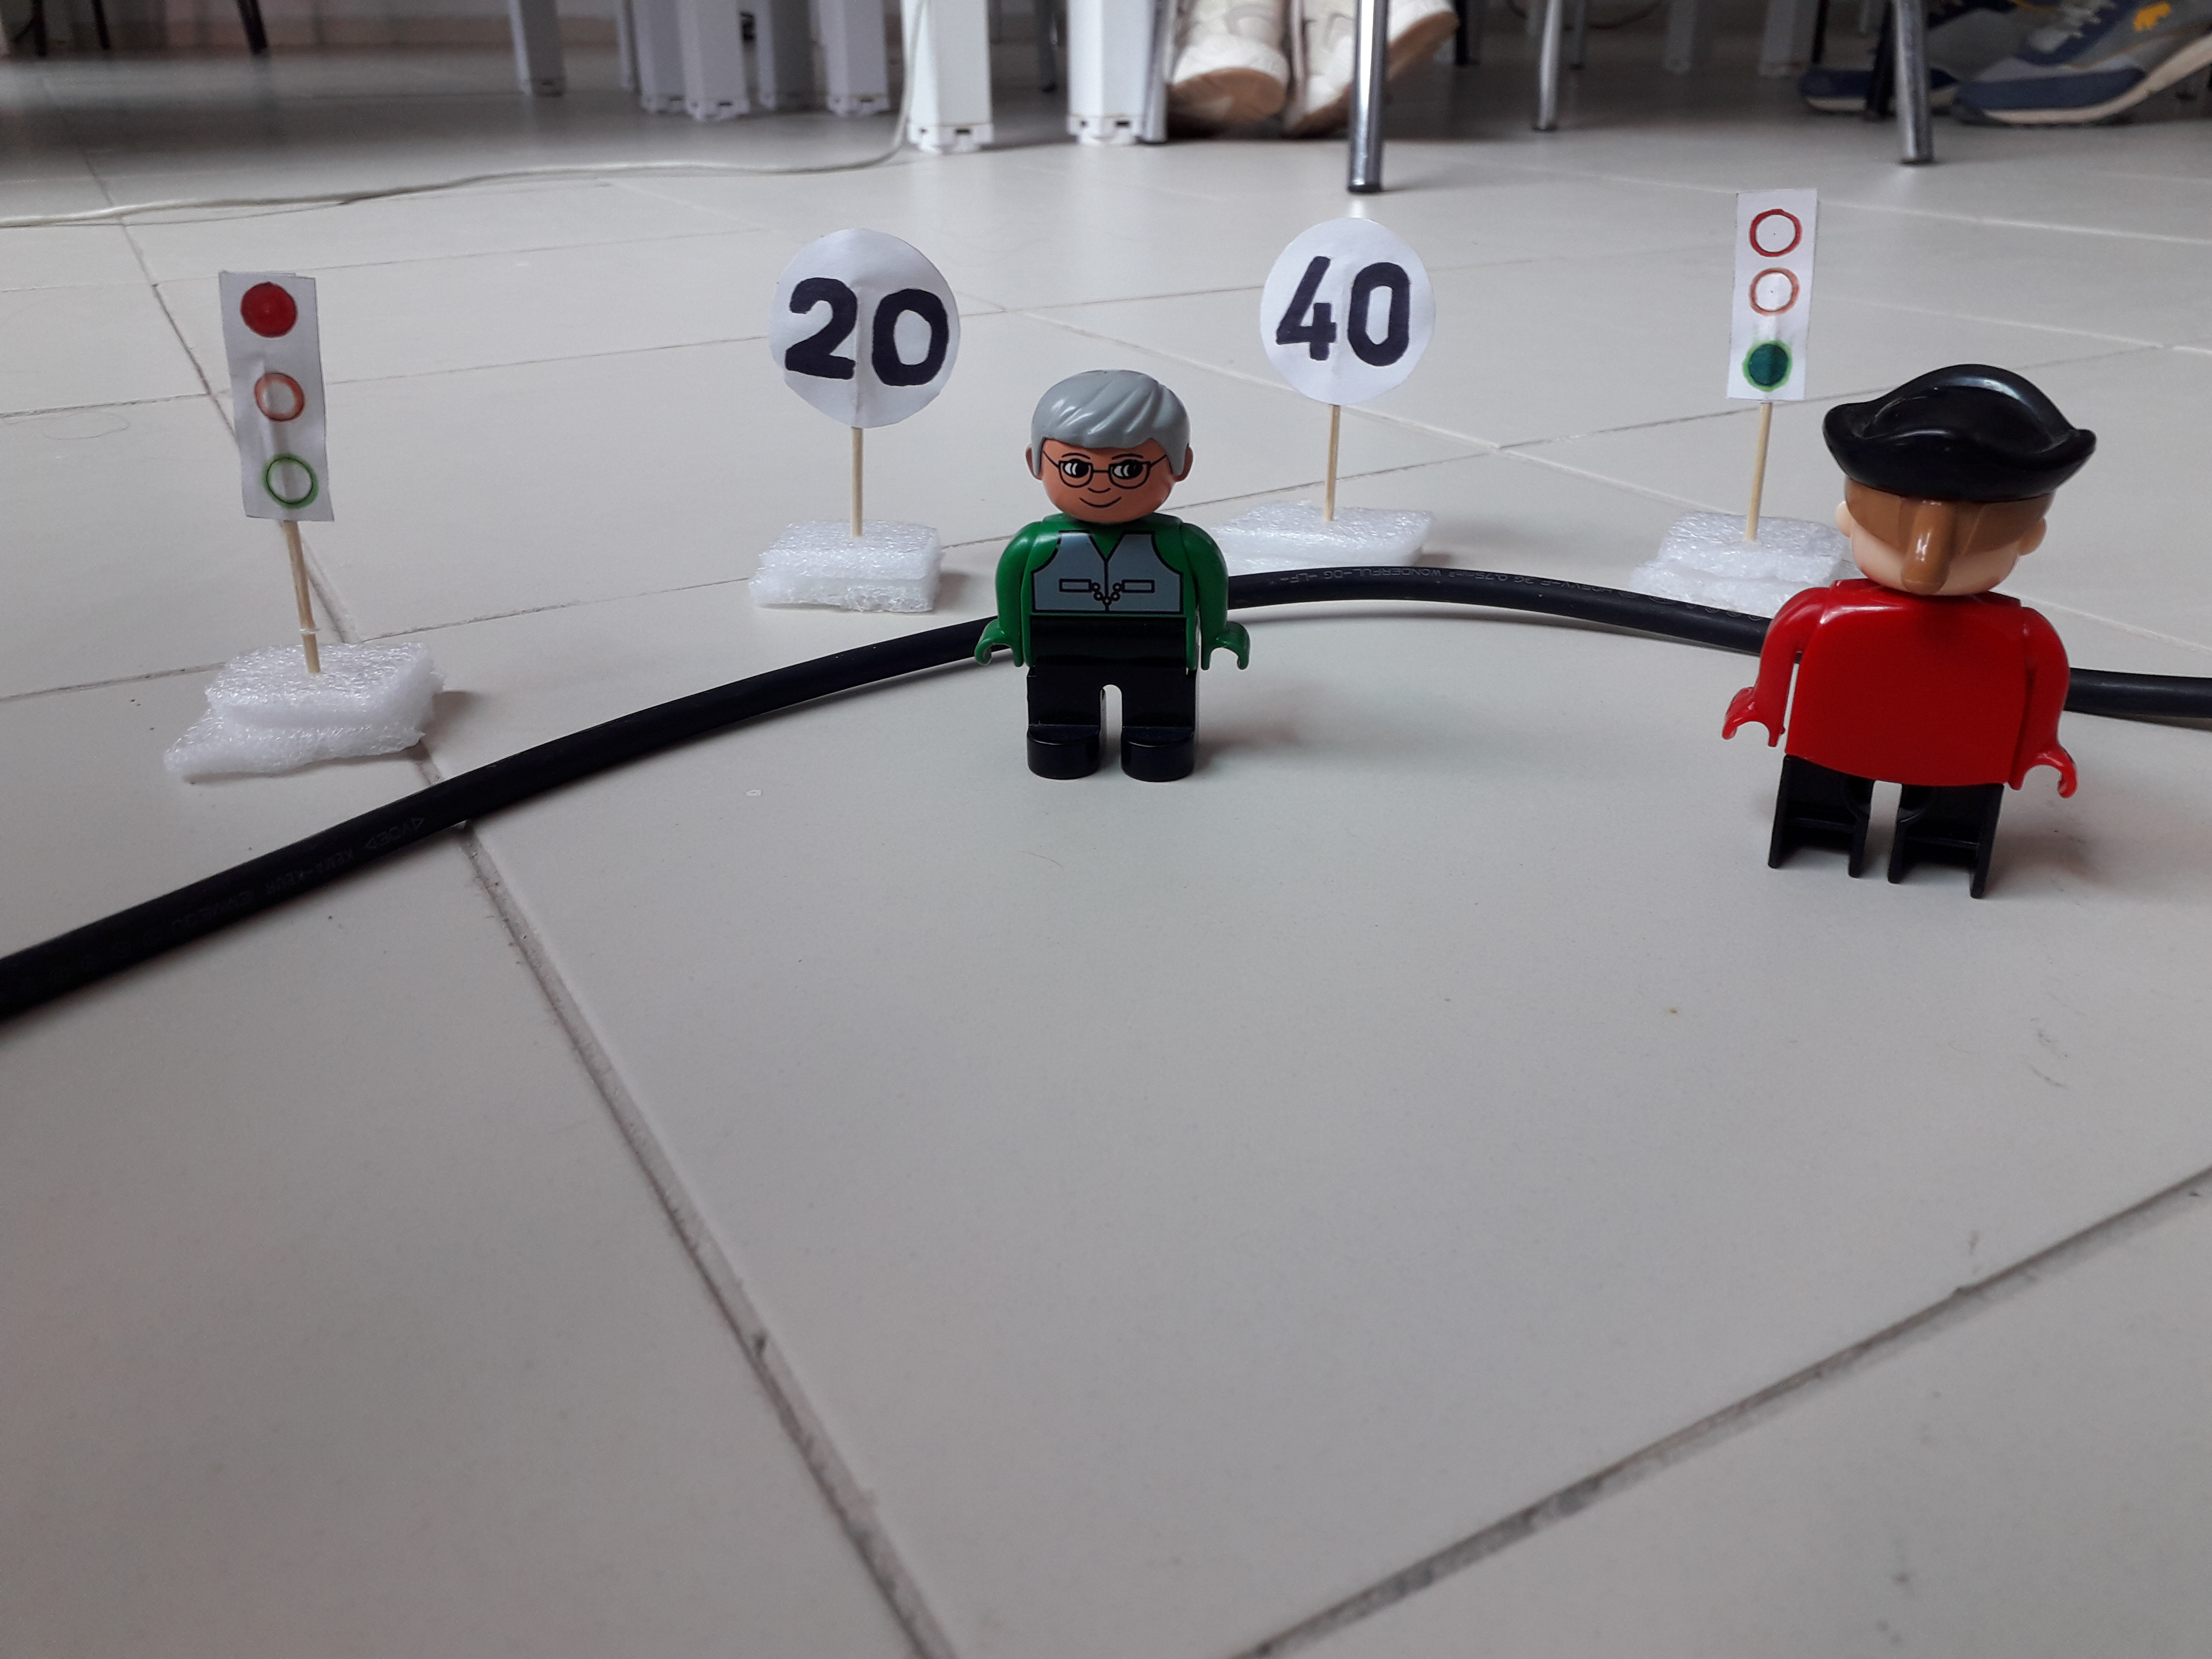20_sign: (765, 222, 962, 431)
40_sign: (1245, 219, 1439, 398)
green_light: (1722, 176, 1811, 398)
person: (1750, 357, 2087, 913), (982, 367, 1258, 775)
red_light: (214, 273, 337, 533)
